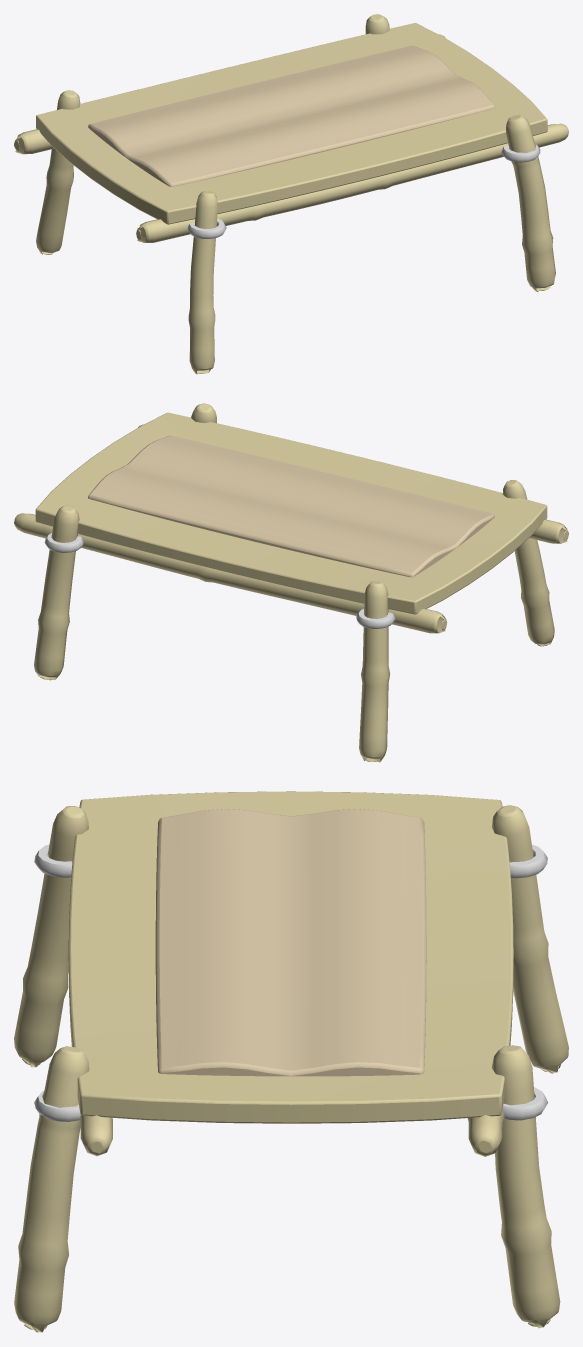
File: pf_fish_rack_1.glb
The picture shows the model from 3 angles, top to bottom: view 1: azimuth 30°, elevation 25°; view 2: azimuth 150°, elevation 25°; view 3: azimuth 270°, elevation 25°; orthographic projection. The views are drawn at different scales.
Parts seen in each view (by area): view 1: fish_rack_1_bamboo, fish_rack_1_pf_fishbed, fish_rack_1_pb_rope; view 2: fish_rack_1_bamboo, fish_rack_1_pf_fishbed, fish_rack_1_pb_rope; view 3: fish_rack_1_bamboo, fish_rack_1_pf_fishbed, fish_rack_1_pb_rope.
Part boxes in pixels (box(x1,y1,x2,y2)): fish_rack_1_bamboo: box(14, 14, 568, 374); fish_rack_1_pf_fishbed: box(88, 45, 495, 186); fish_rack_1_pb_rope: box(187, 144, 540, 238); fish_rack_1_bamboo: box(14, 403, 568, 762); fish_rack_1_pf_fishbed: box(88, 435, 494, 577); fish_rack_1_pb_rope: box(44, 533, 395, 628); fish_rack_1_bamboo: box(14, 791, 568, 1332); fish_rack_1_pf_fishbed: box(155, 809, 426, 1076); fish_rack_1_pb_rope: box(34, 844, 548, 1121).
Bounding box in the file's own units: 1.94 × 0.7292 × 1.37.
